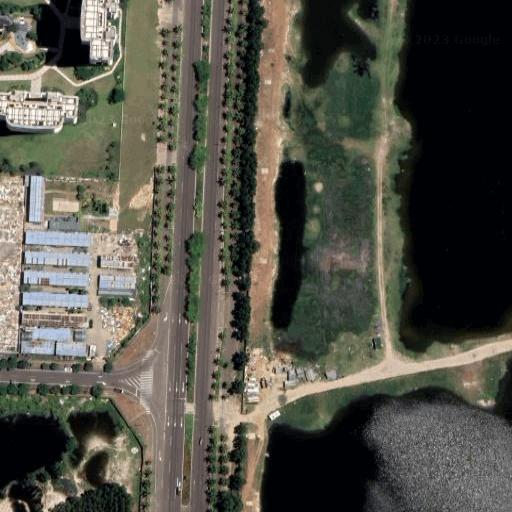building: (0, 98, 77, 134), (79, 0, 112, 66), (21, 313, 87, 329), (24, 270, 89, 286), (24, 232, 92, 246), (22, 293, 88, 307), (24, 253, 90, 266), (29, 176, 45, 221), (33, 326, 71, 341), (22, 339, 55, 355), (57, 340, 86, 356), (100, 276, 136, 288), (101, 254, 132, 267), (97, 287, 130, 297), (50, 219, 76, 229), (325, 369, 338, 382), (74, 331, 86, 341), (269, 411, 280, 421), (304, 368, 313, 380), (246, 394, 260, 401), (89, 345, 97, 357), (247, 386, 260, 393), (288, 369, 296, 380), (24, 173, 30, 187), (284, 380, 296, 386), (23, 332, 33, 339), (374, 338, 381, 348), (26, 326, 33, 332), (275, 367, 280, 373), (285, 366, 288, 372)
